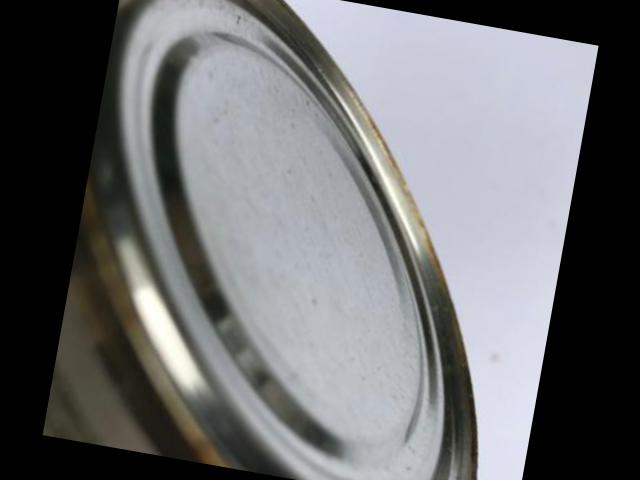metal: (43, 0, 478, 480)
